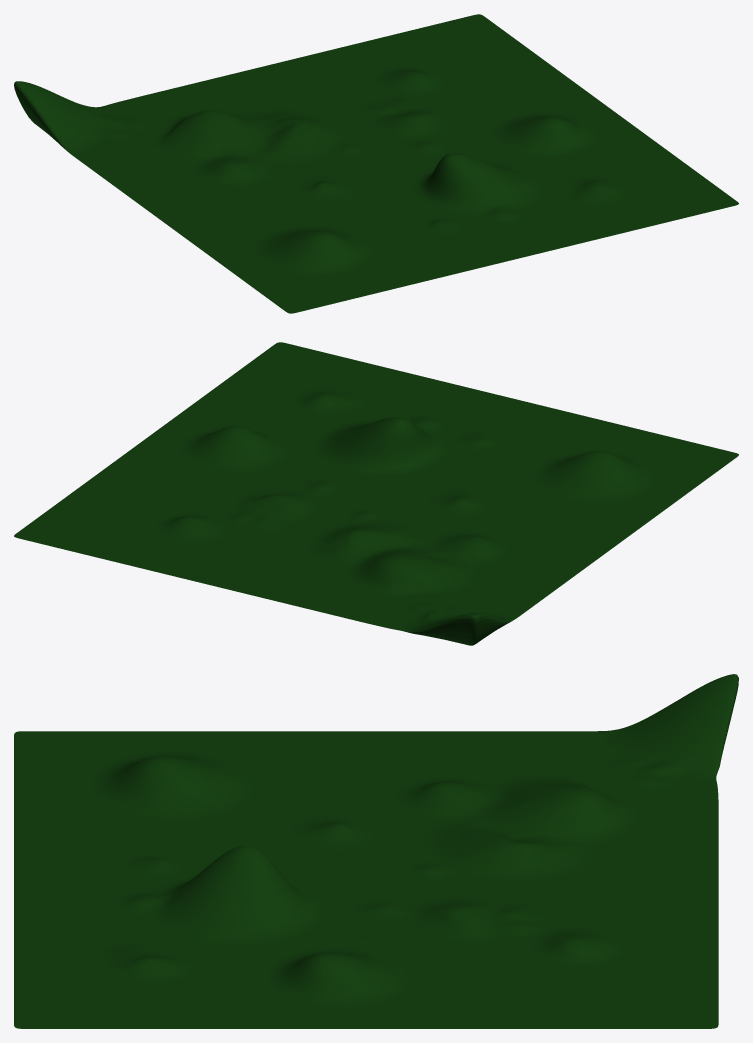
File: Hills.fbx
3 views of the same model, one above another, from view 1: azimuth 30°, elevation 25°; view 2: azimuth 150°, elevation 25°; view 3: azimuth 270°, elevation 25° (orthographic). The views are drawn at different scales.
Visible parts, largest first — view 1: Cube; view 2: Cube; view 3: Cube.
Boxes of the visible parts, x1,y1,x2,y2 form: Cube: (14, 14, 738, 313); Cube: (14, 342, 738, 645); Cube: (14, 674, 738, 1028).
Size of the model in its own units: 20361 by 1660 by 20546.
